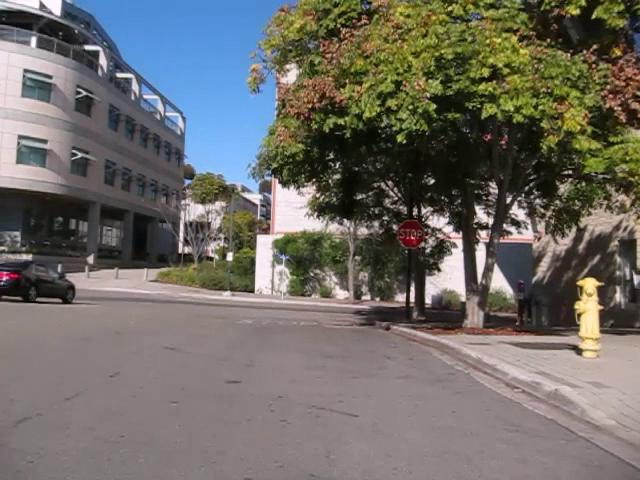stop: (396, 218, 425, 249)
